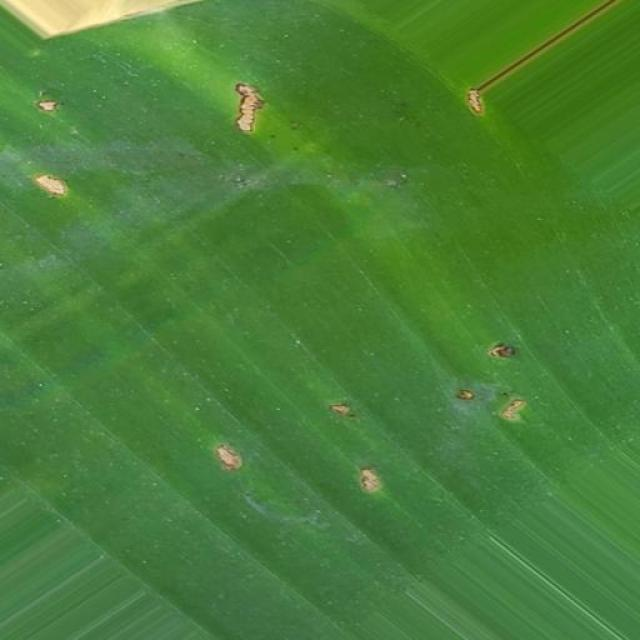Black_rot: (3, 53, 640, 564)
